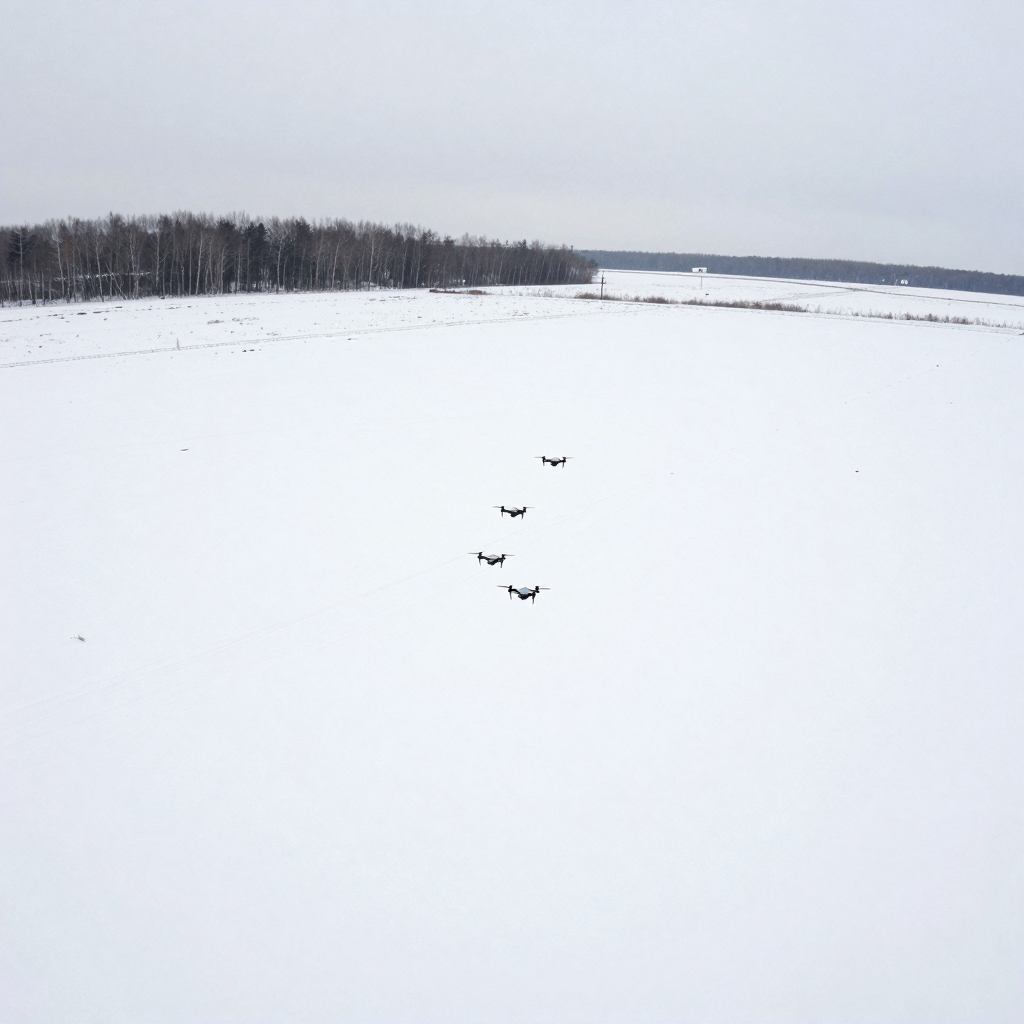drone: (497, 585, 551, 605), (468, 550, 515, 568), (492, 505, 535, 520), (534, 456, 574, 468)
